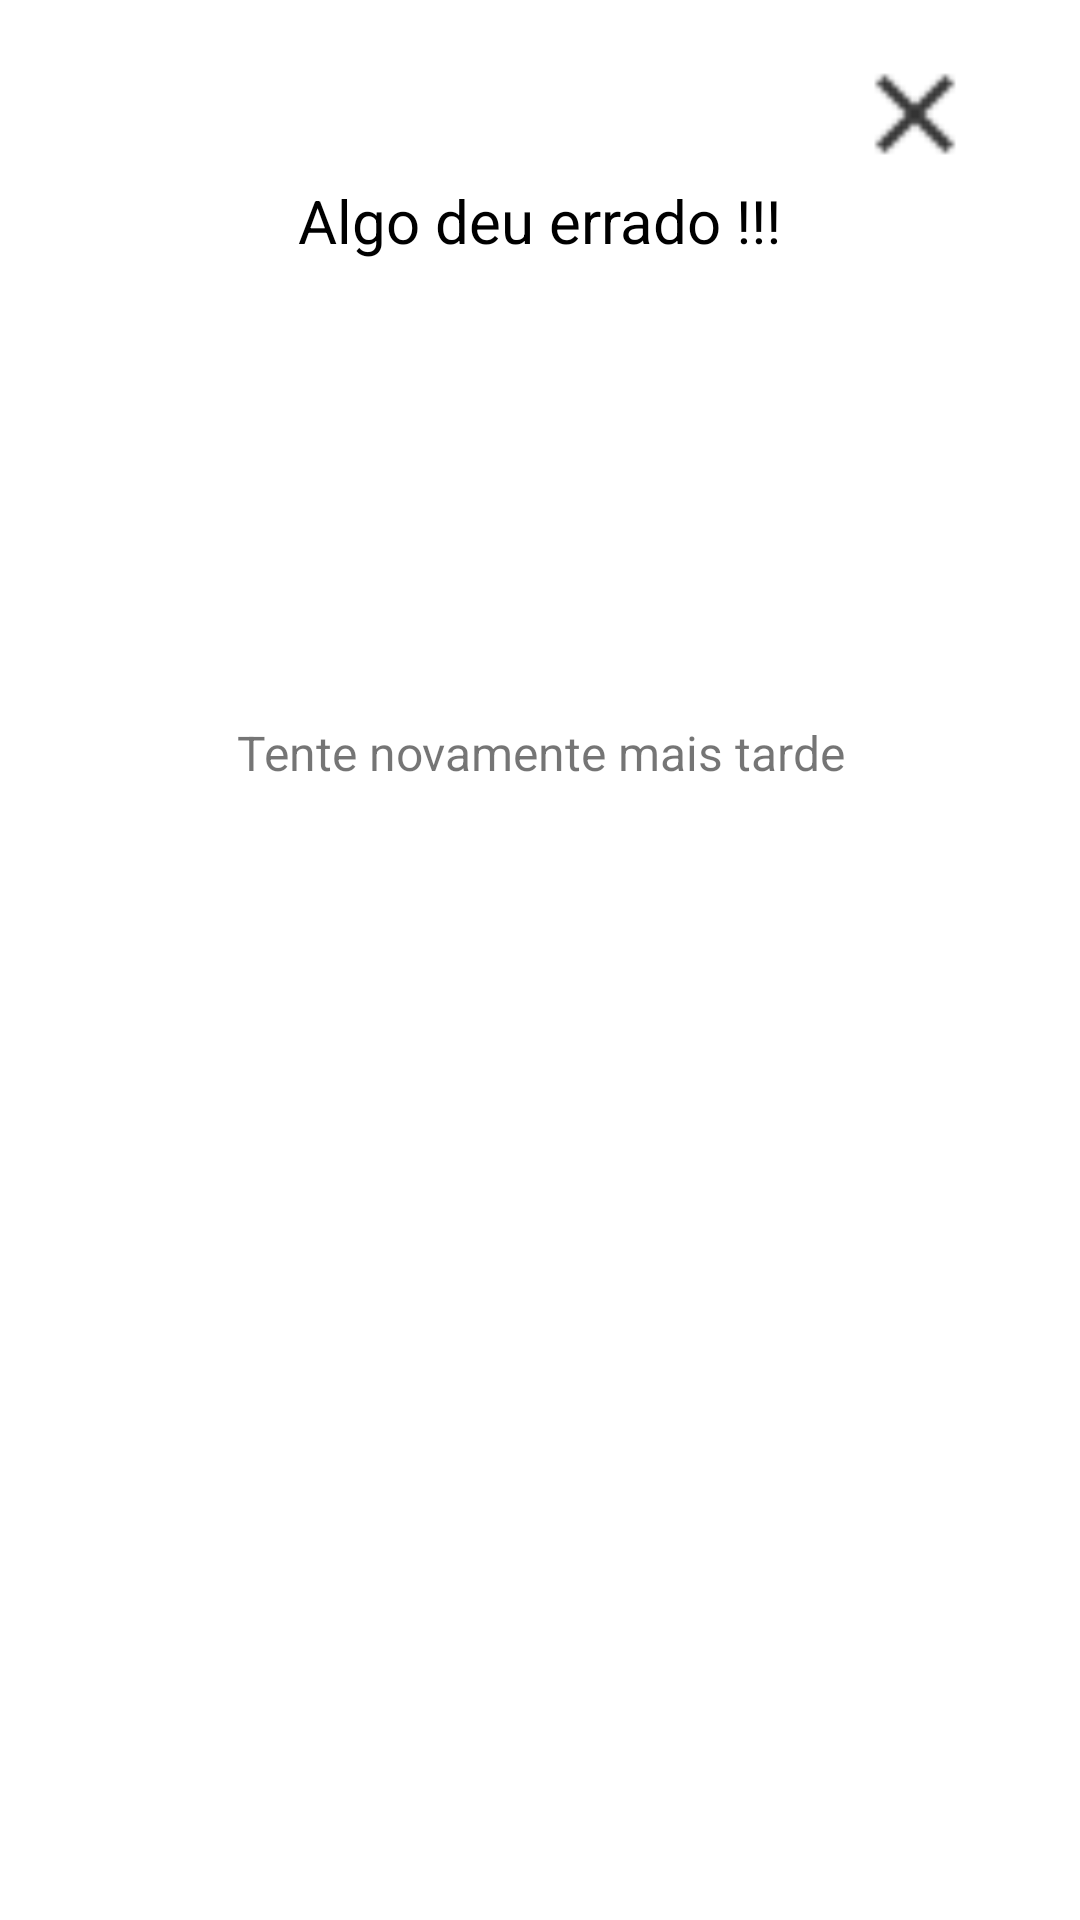

Named icons in this screenshot (1080 × 1920) and their bounding boxes, (x1, y1, x2, y2):
close: (875, 74, 955, 154)
